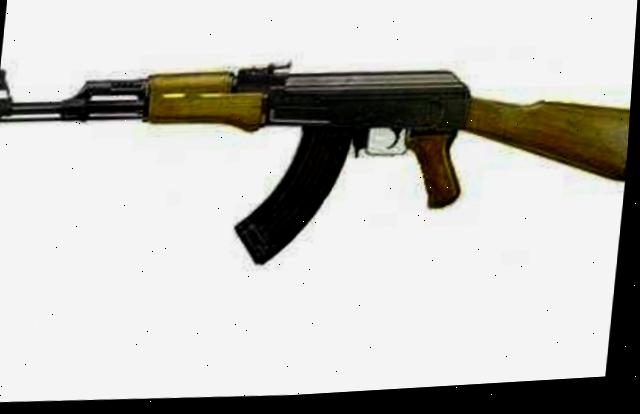rifle: (0, 20, 637, 287)
